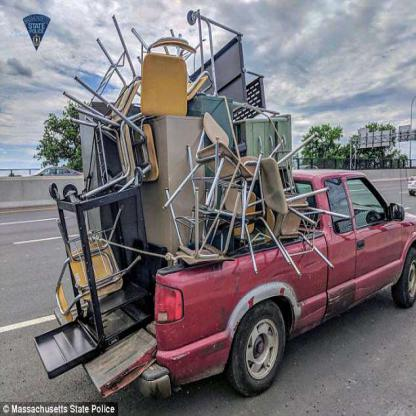overloaded-truck: (31, 25, 339, 374)
